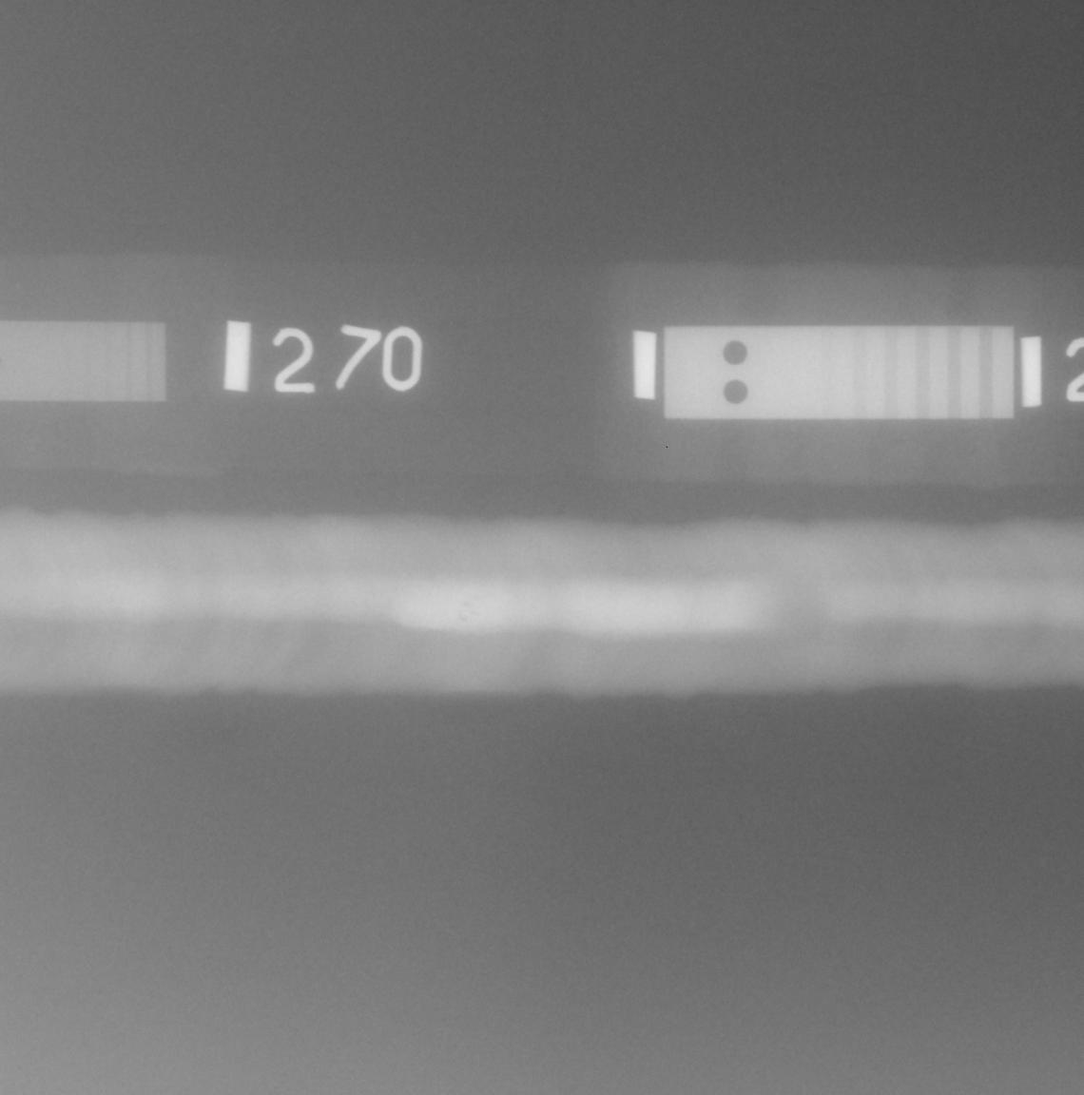Pore/Porosity: (470, 612, 479, 616), (463, 602, 474, 605), (460, 615, 466, 620)
Reference Standard 2: (664, 326, 1015, 419)
